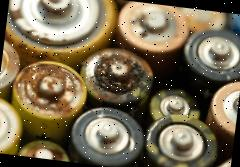electronic: (3, 0, 120, 72)
